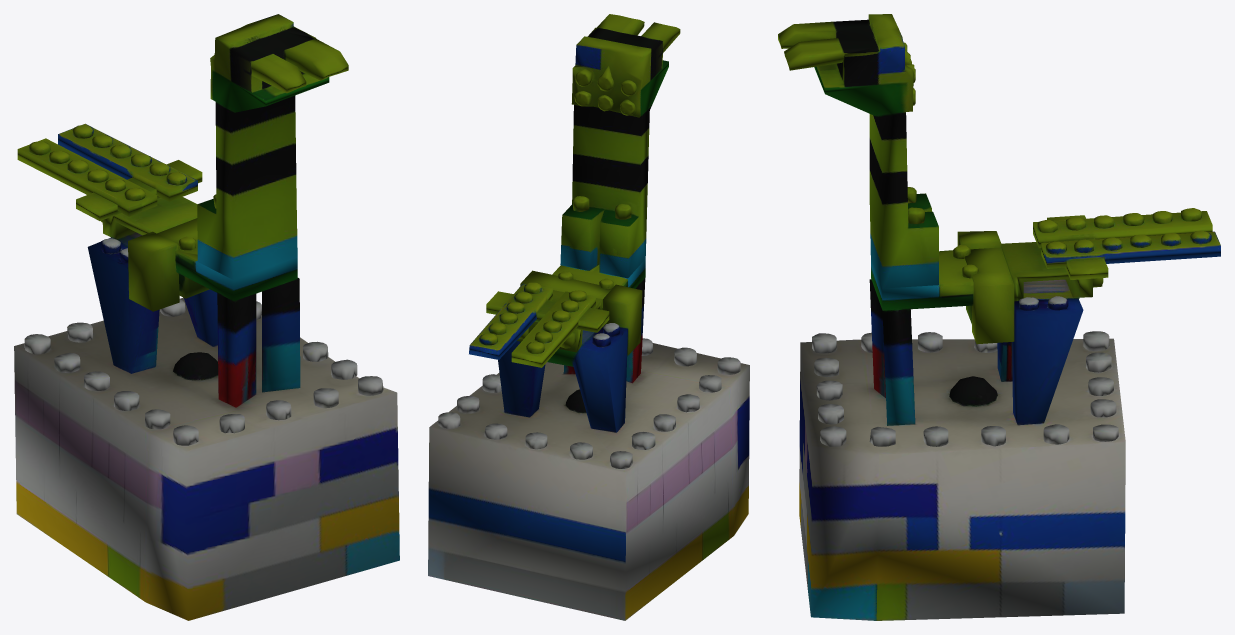
The model's file is object_66_asset_00a79c2f.glb.
3 renders of one model, left to right at view 1: azimuth 30°, elevation 25°; view 2: azimuth 150°, elevation 25°; view 3: azimuth 270°, elevation 25°, orthographic. The views are drawn at different scales.
Visible parts, largest first — view 1: tripo_node_539411ad-6b6c-4438-b9bf-67e58cc6f882; view 2: tripo_node_539411ad-6b6c-4438-b9bf-67e58cc6f882; view 3: tripo_node_539411ad-6b6c-4438-b9bf-67e58cc6f882.
Part boxes in pixels (box(x1,y1,x2,y2)): tripo_node_539411ad-6b6c-4438-b9bf-67e58cc6f882: box(14, 14, 399, 620); tripo_node_539411ad-6b6c-4438-b9bf-67e58cc6f882: box(428, 14, 749, 620); tripo_node_539411ad-6b6c-4438-b9bf-67e58cc6f882: box(778, 14, 1220, 620).
Bounding box in the file's own units: 0.4551 × 0.998 × 0.7363.
1 material, 1 textured.
